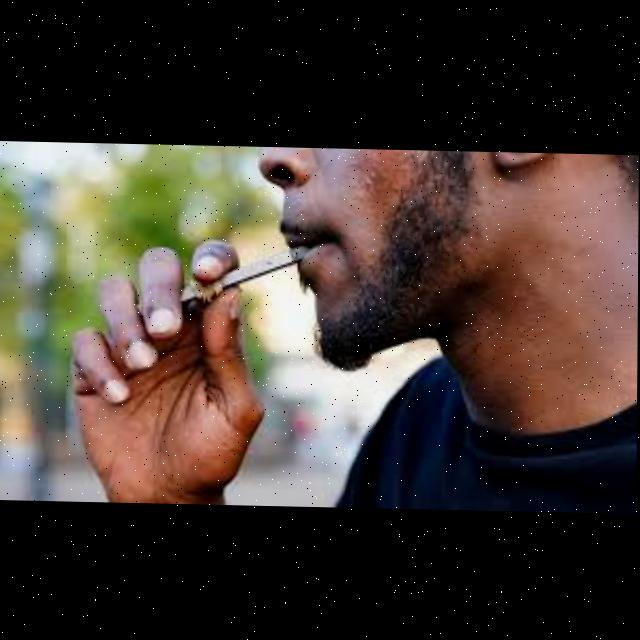vape: (173, 232, 324, 309)
